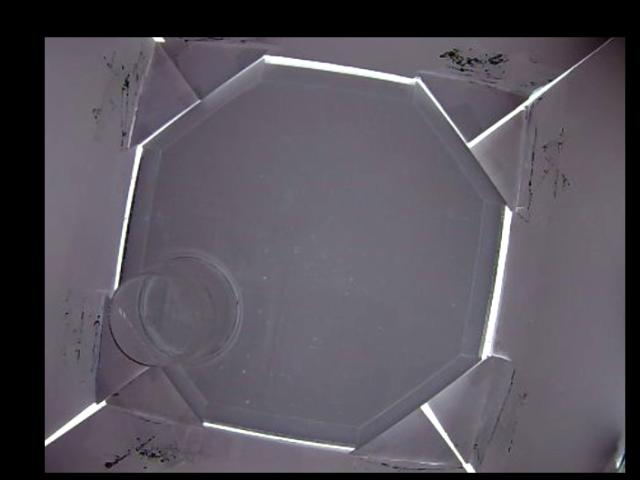Cup: (105, 250, 241, 371)
